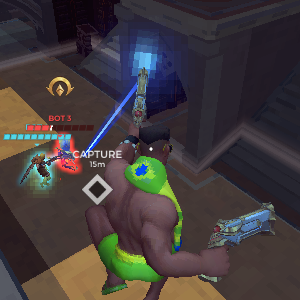model: (53, 137, 79, 177)
